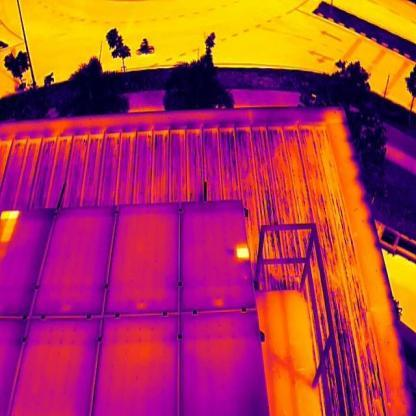anomaly: (0, 208, 23, 260), (233, 243, 250, 261)
